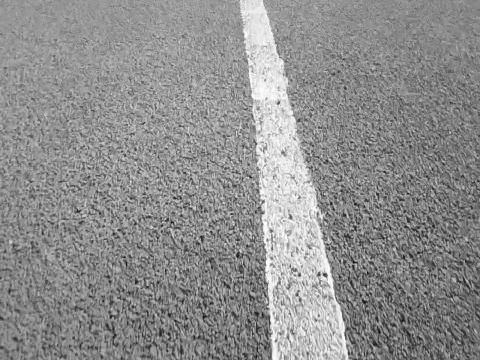Lines: (238, 0, 351, 360)
